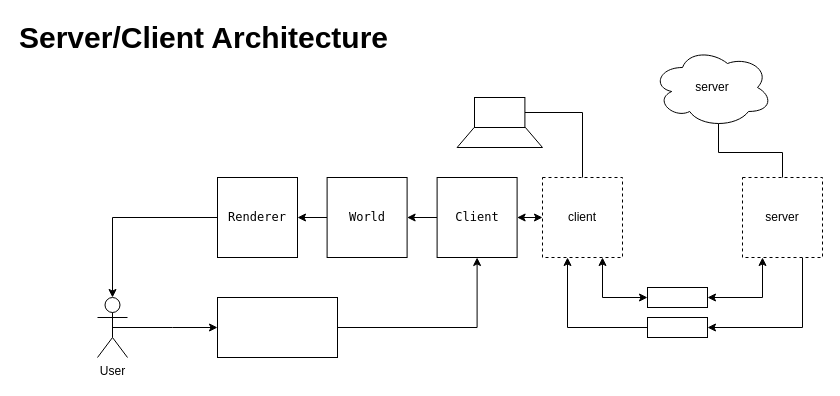
This 840x396 diagram has some shape labels left out. Here are the shapes that lost their labels. From the top down, the box of each, then its label:
(474, 96, 525, 128): user pc
(646, 286, 708, 308): messages
(216, 296, 338, 358): InputManager
(646, 316, 708, 338): dg actors
